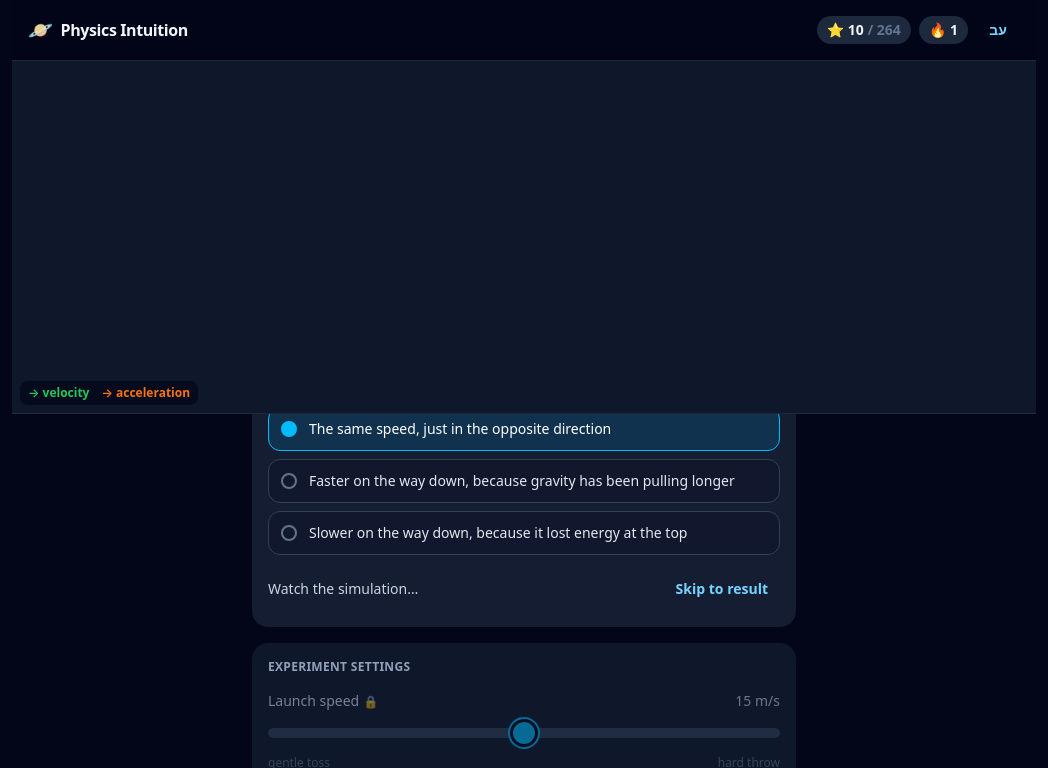
Scenario: every Topic 1 question › stone-thrown-upward: every part can be answered correctly through the UI
Earlier steps of the test are not shown.
Later steps or results of the test are not shown.
(page scrolled)
Step 1. Click the button "Skip to result" → (722, 589), box [664,567,780,611]
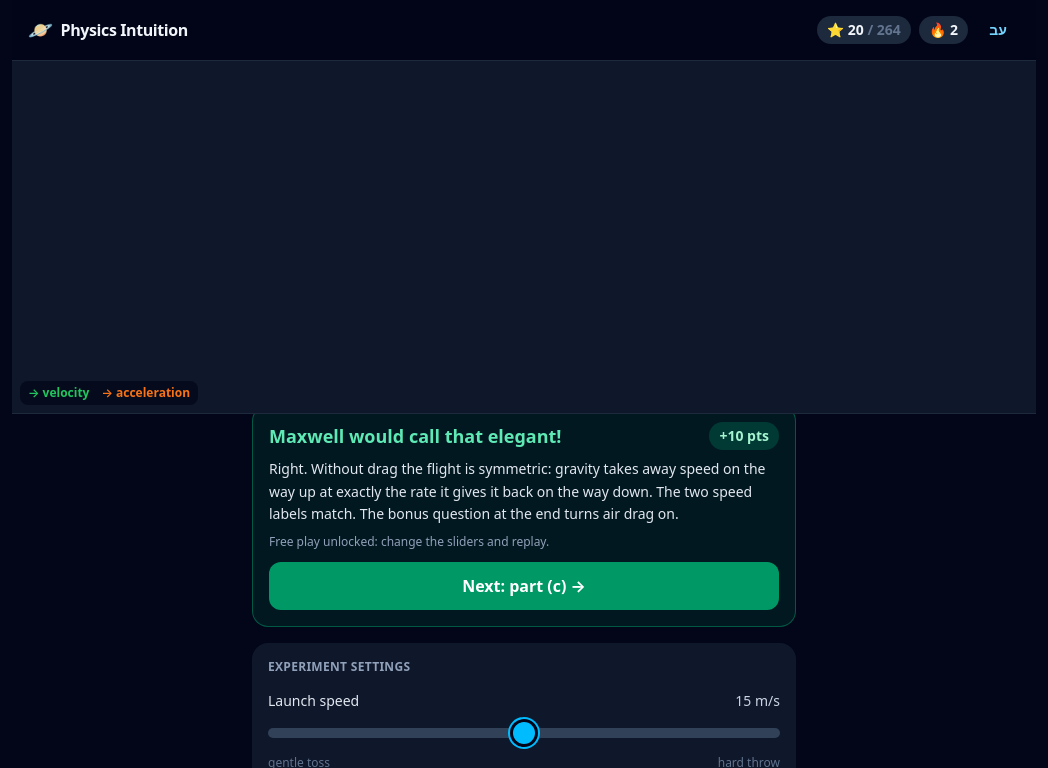
Expected: the text "+10 pts" is shown, [709,422,779,450]
Expected: the text "Right. Without drag the flight is symmetric: gravity takes away speed on the way up at exactly the rate it gives it back" is shown, [269,459,766,523]
Step 2. Click the button "Next: part (c) →" → (524, 586), box [269,562,779,610]
(page scrolled)
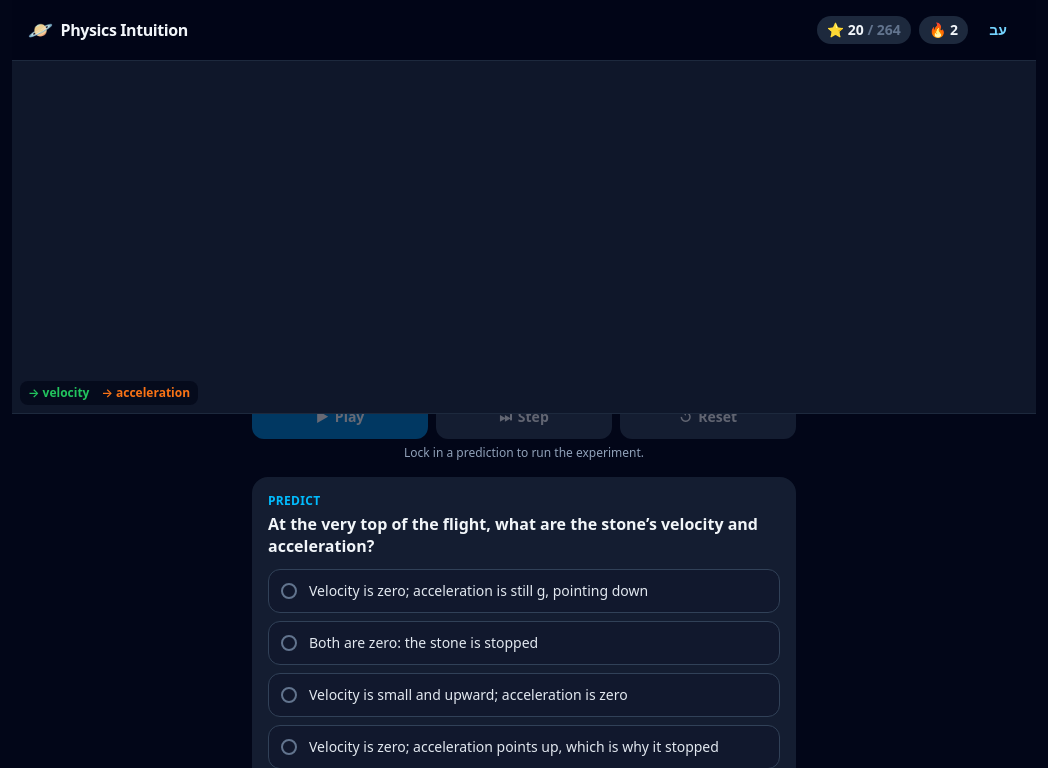
Expected: the heading "At the very top of the flight, what are the stone’s velocity and acceleration?" is shown, [268,513,780,557]
Step 3. Click the radio button labelled "Velocity is zero; acceleration is still g, pointing down" → (524, 591), box [268,569,780,613]
(page scrolled)
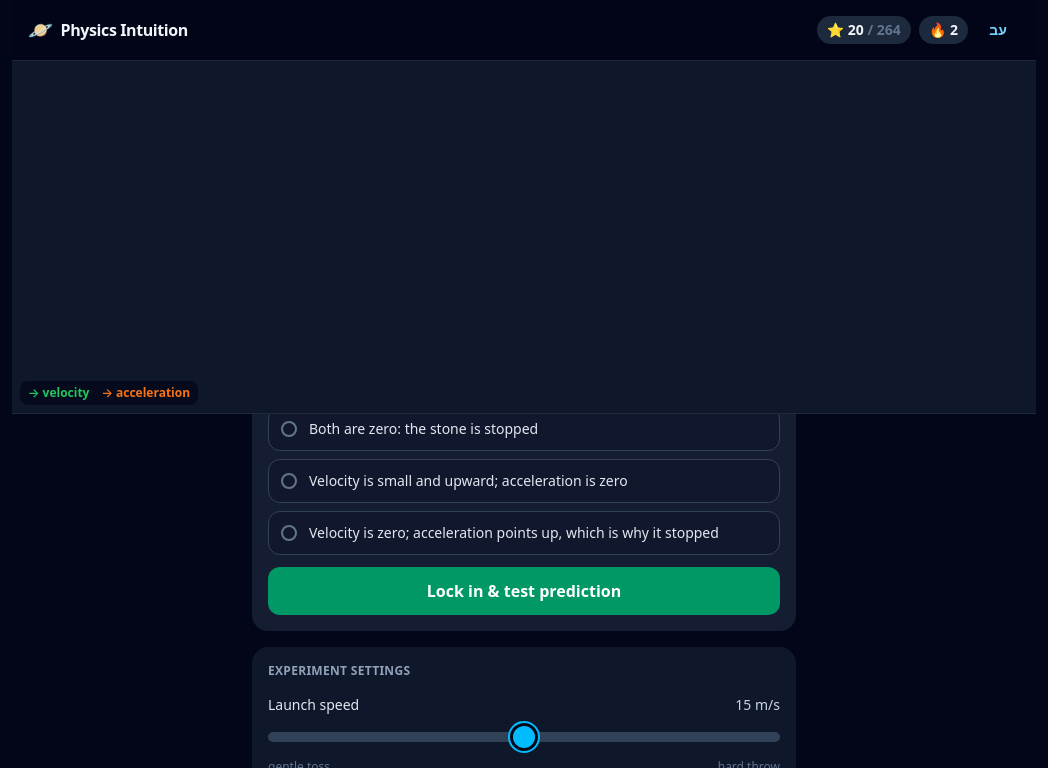
Step 4. Click the button "Lock in & test prediction" → (524, 591), box [268,567,780,615]
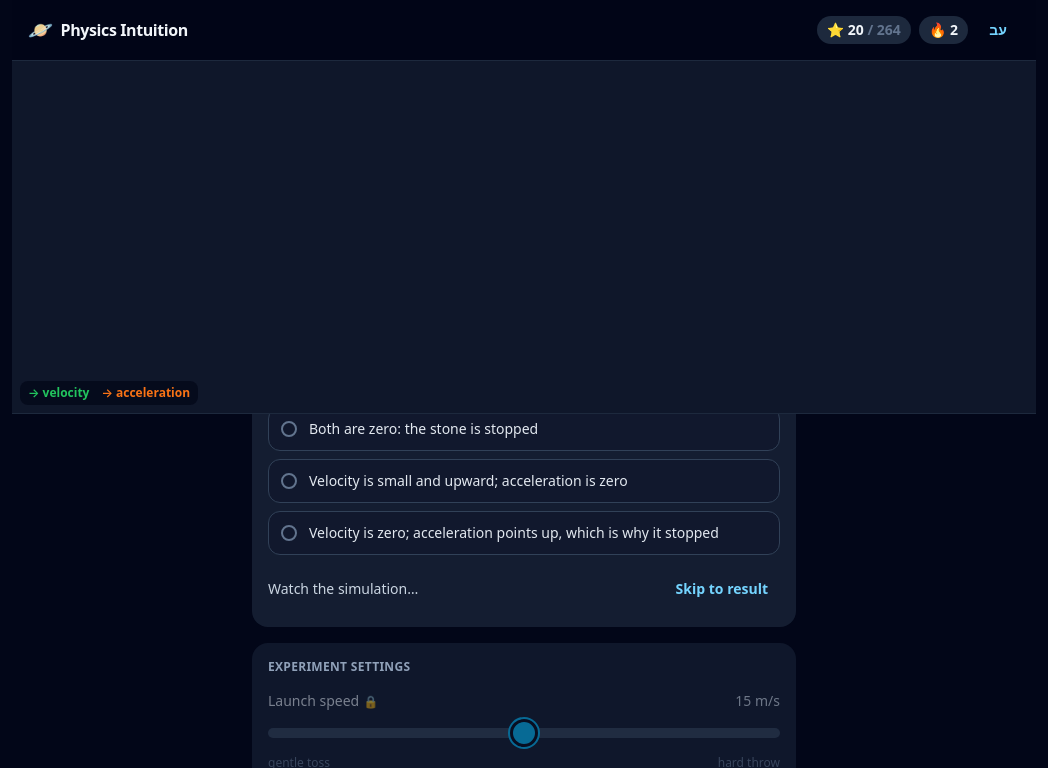
Step 5. Click the button "Skip to result" → (722, 589), box [664,567,780,611]
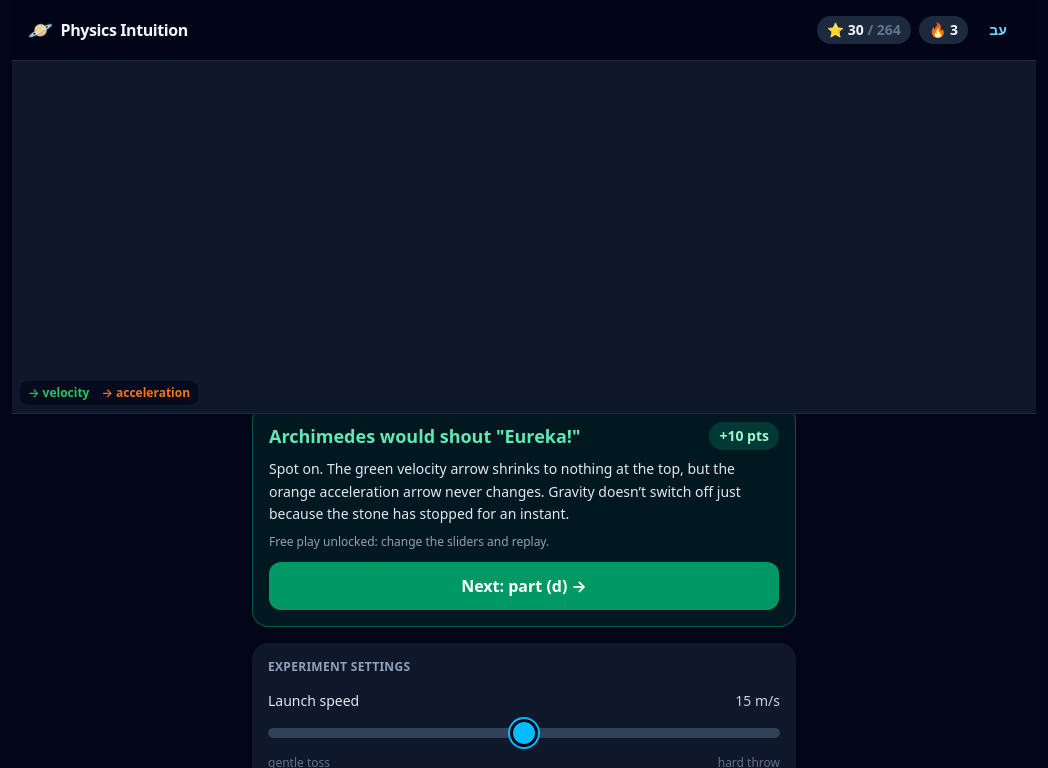
Expected: the text "+10 pts" is shown, [709,422,779,450]
Expected: the text "Spot on. The green velocity arrow shrinks to nothing at the top, but the orange acceleration arrow never changes. Gravit" is shown, [269,459,741,523]
Step 6. Click the button "Next: part (d) →" → (524, 586), box [269,562,779,610]
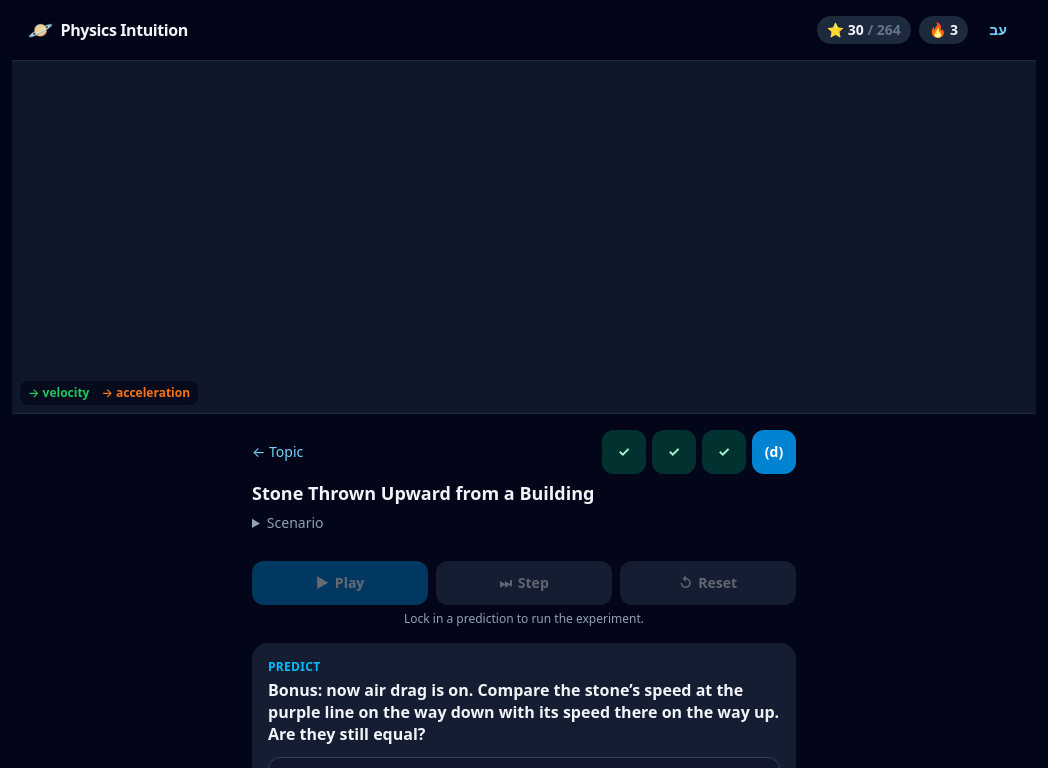
Expected: the heading "Bonus: now air drag is on. Compare the stone’s speed at the purple line on the way down with its speed there on the way " is shown, [268,679,779,745]
